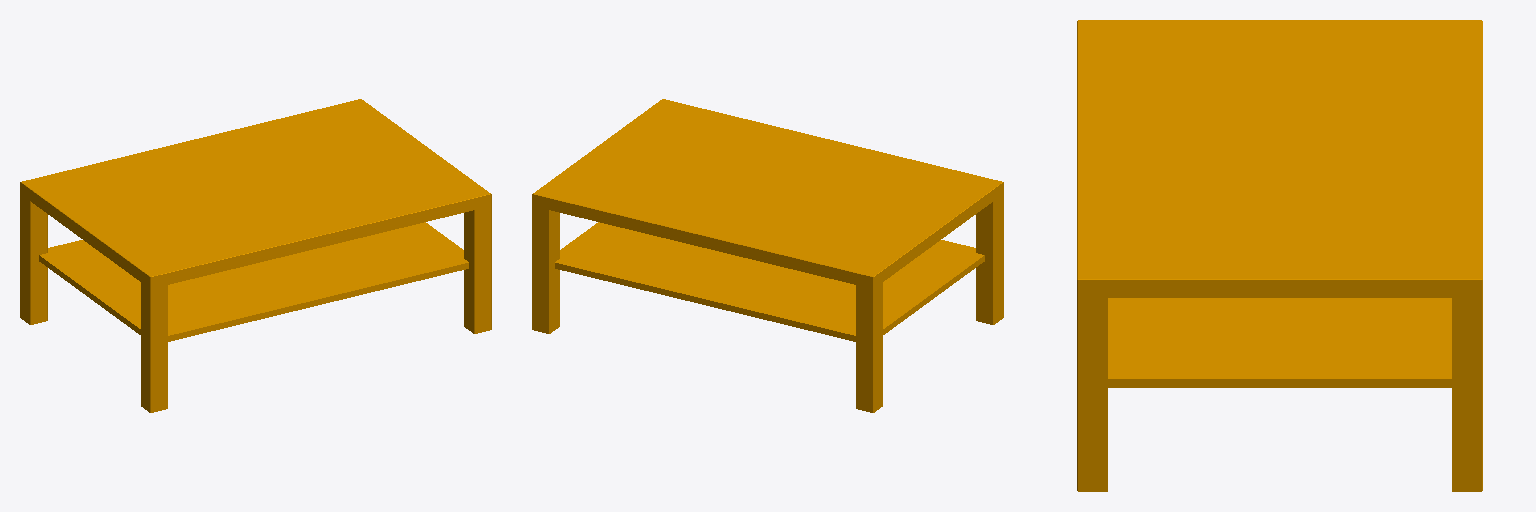
The robot description file, URDF, robot "OIdK2Lx4":
<?xml version='1.0' encoding='us-ascii'?>
<robot name="OIdK2Lx4">
   <link name="base_link">
      <visual>
         <origin xyz="0.0 0.0 0.0" />
         <geometry>
            <mesh filename="shape\visual\coffee_table-fhqimf-0.obj" />
         </geometry>
      </visual>
      <collision>
         <origin xyz="0.0 0.0 0.0" />
         <geometry>
            <mesh filename="shape\collision\coffee_table-fhqimf-0.obj" />
         </geometry>
      </collision>
   </link>
</robot>

--- Render facts (derived) ---
The picture shows the robot from 3 angles, left to right: view 1: azimuth 30°, elevation 25°; view 2: azimuth 150°, elevation 25°; view 3: azimuth 270°, elevation 25°; orthographic projection.
Model OIdK2Lx4 with 1 links and 0 joints (none), rooted at base_link, posed all joints at 0.
Visible links, largest first — view 1: base_link; view 2: base_link; view 3: base_link.
Boxes of the visible links, left/top/right/bottom form: base_link: left=20, top=99, right=491, bottom=412; base_link: left=532, top=99, right=1003, bottom=412; base_link: left=1077, top=20, right=1482, bottom=491.
Size in the robot's own frame: 1.18 by 0.78 by 0.45 metres.
1 mesh visuals loaded from 1 distinct referenced files (1 OBJ).